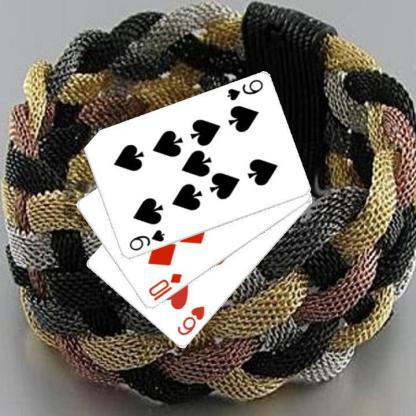10D: (146, 271, 183, 302)
6H: (174, 304, 206, 338)
9S: (126, 227, 166, 253), (224, 77, 264, 102)
